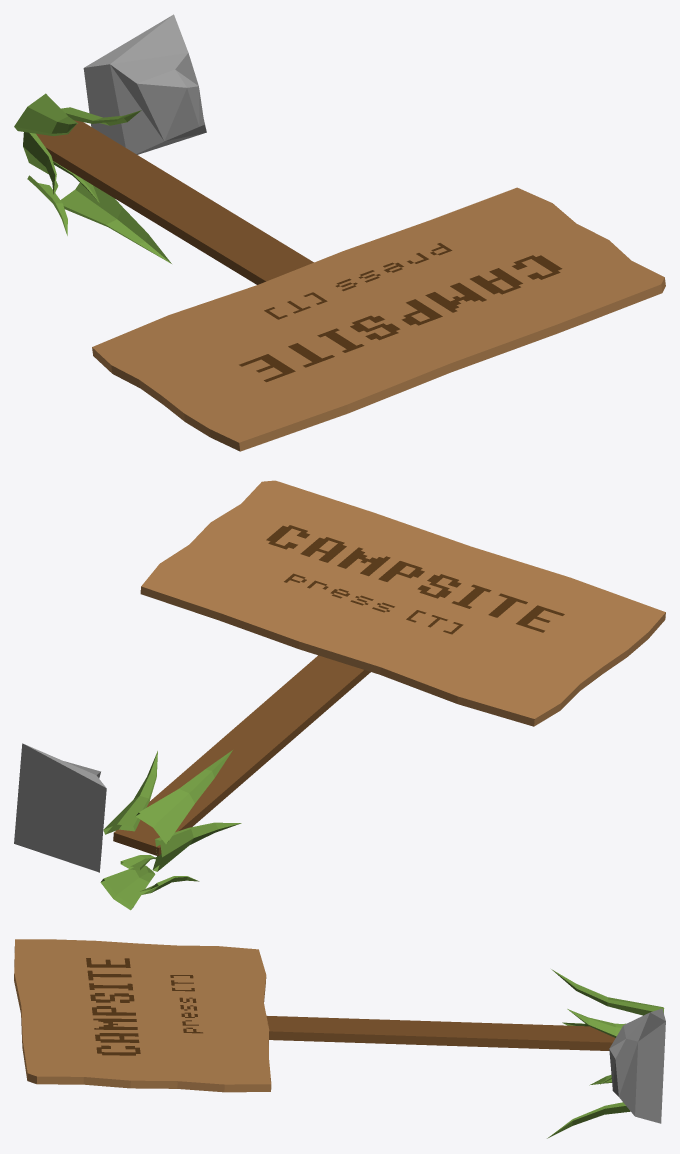
The model's file is signJump.obj.
3 views of the same model, one above another, from view 1: azimuth 30°, elevation 25°; view 2: azimuth 150°, elevation 25°; view 3: azimuth 270°, elevation 25° (orthographic). The views are drawn at different scales.
Parts seen in each view (by area): view 1: Sign11, Text.002, Text.001; view 2: Sign11, Text.002, Text.001; view 3: Sign11, Text.002, Text.001.
Boxes of the visible parts, x1=… form: Sign11: x1=14, y1=14, x2=665, y2=451; Text.002: x1=239, y1=255, x2=562, y2=382; Text.001: x1=264, y1=243, x2=452, y2=319; Sign11: x1=14, y1=480, x2=665, y2=910; Text.002: x1=266, y1=525, x2=564, y2=632; Text.001: x1=284, y1=573, x2=463, y2=634; Sign11: x1=14, y1=939, x2=665, y2=1138; Text.002: x1=86, y1=958, x2=140, y2=1055; Text.001: x1=170, y1=975, x2=202, y2=1033.
Size of the model in its own units: 1.42 by 0.5437 by 2.17.
5 materials, 5 textured.
